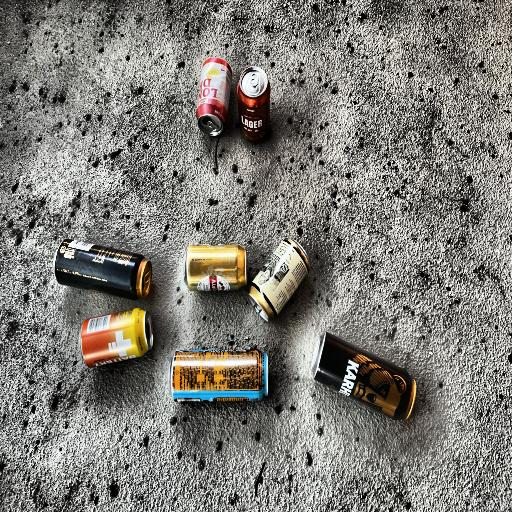A_LeCoq: (182, 240, 250, 295)
coop_larger: (235, 61, 275, 145)
karhu: (306, 315, 434, 425), (48, 228, 159, 304)
koff: (189, 56, 234, 144)
sandels: (245, 238, 312, 327)
